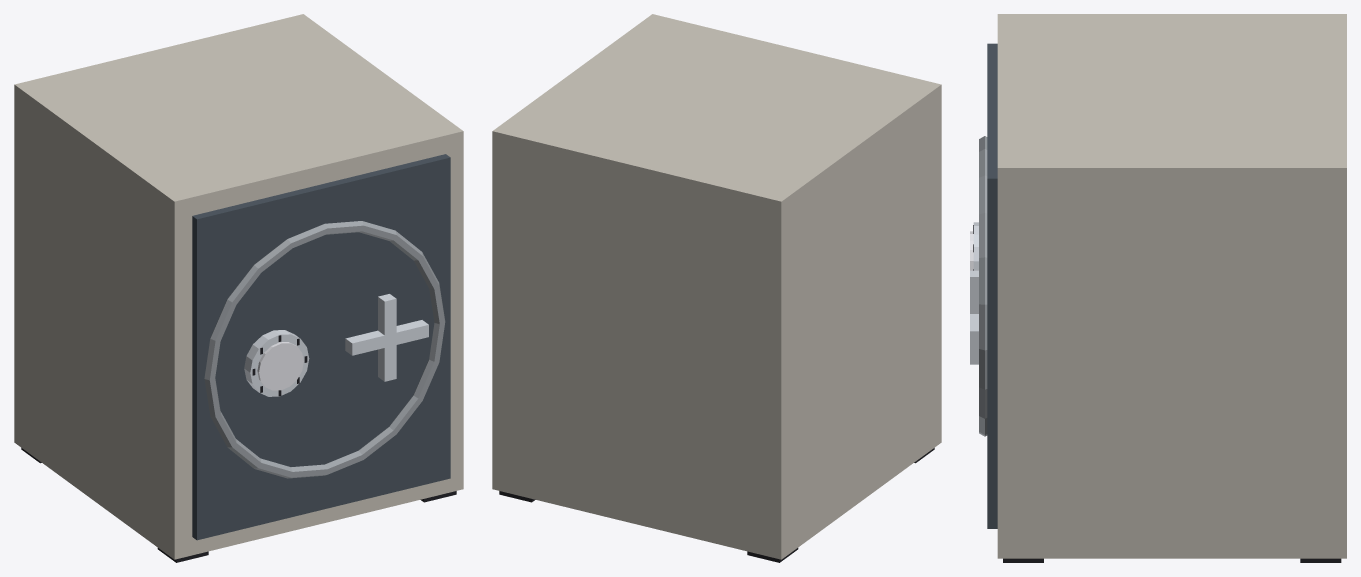
The model's file is safe.glb.
The picture shows the model from 3 angles, left to right: view 1: azimuth 30°, elevation 25°; view 2: azimuth 150°, elevation 25°; view 3: azimuth 270°, elevation 25°; orthographic projection. The views are drawn at different scales.
Parts seen in each view (by area): view 1: safe; view 2: safe; view 3: safe.
Boxes of the visible parts, x1=… form: safe: x1=14, y1=14, x2=463, y2=562; safe: x1=492, y1=14, x2=941, y2=562; safe: x1=970, y1=14, x2=1346, y2=562.
Bounding box in the file's own units: 0.49 × 0.59 × 0.507.
